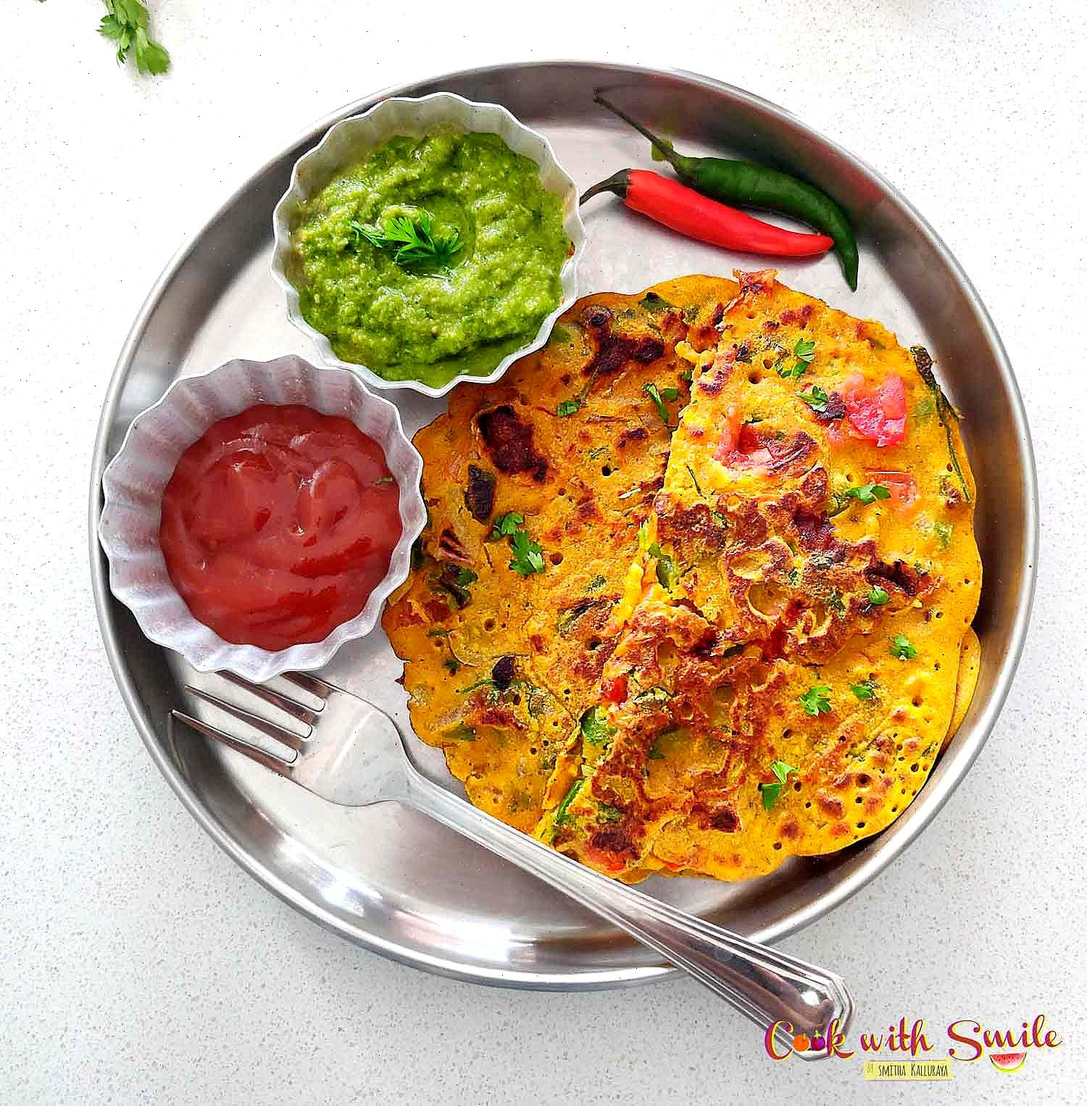omelette: (451, 316, 988, 789)
